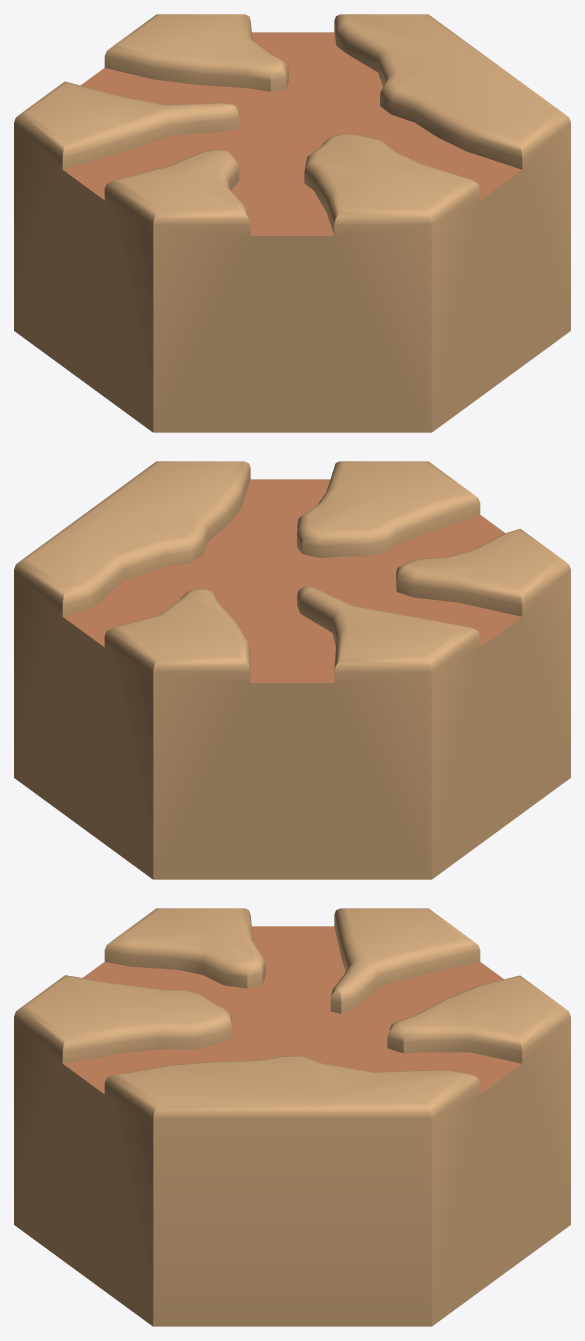
The model's file is hex_sand_roadL.glb.
3 views of the same model, one above another, from view 1: azimuth 30°, elevation 25°; view 2: azimuth 150°, elevation 25°; view 3: azimuth 270°, elevation 25° (orthographic).
Parts seen in each view (by area): view 1: hex_sand_roadL; view 2: hex_sand_roadL; view 3: hex_sand_roadL.
Part boxes in pixels (x1,y1,x2,y2): hex_sand_roadL: [14, 14, 570, 432]; hex_sand_roadL: [14, 461, 570, 879]; hex_sand_roadL: [14, 908, 570, 1326].
Bounding box in the file's own units: 3.82 × 1.91 × 4.41.
